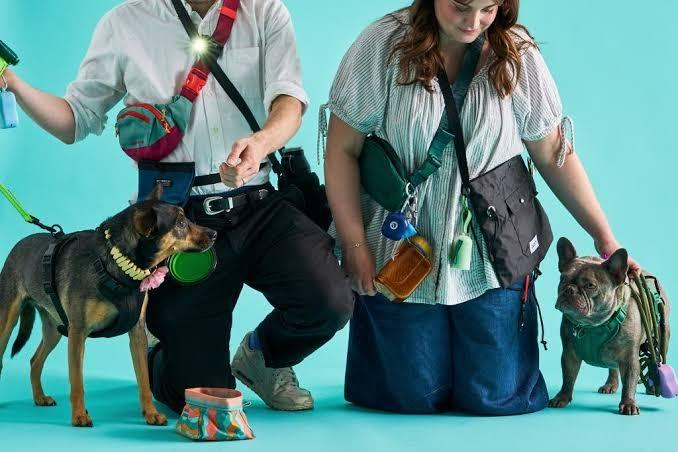adult_dog: (1, 181, 216, 428), (546, 237, 668, 416)
